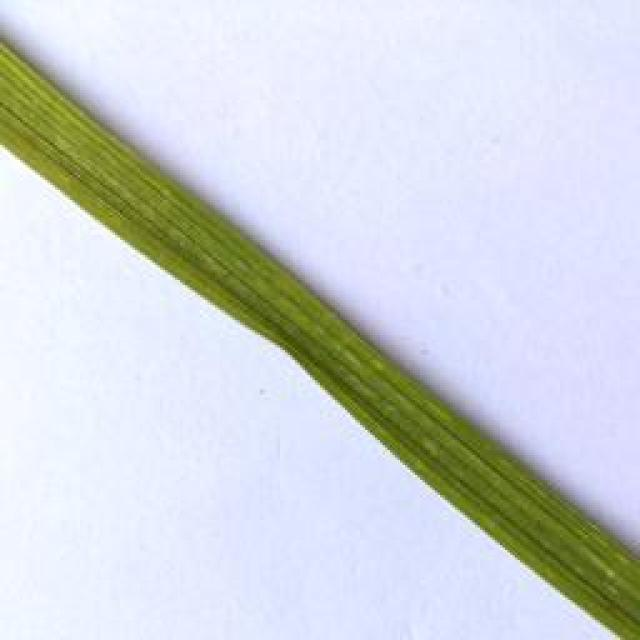Healthy-Plant: (0, 34, 640, 631)
